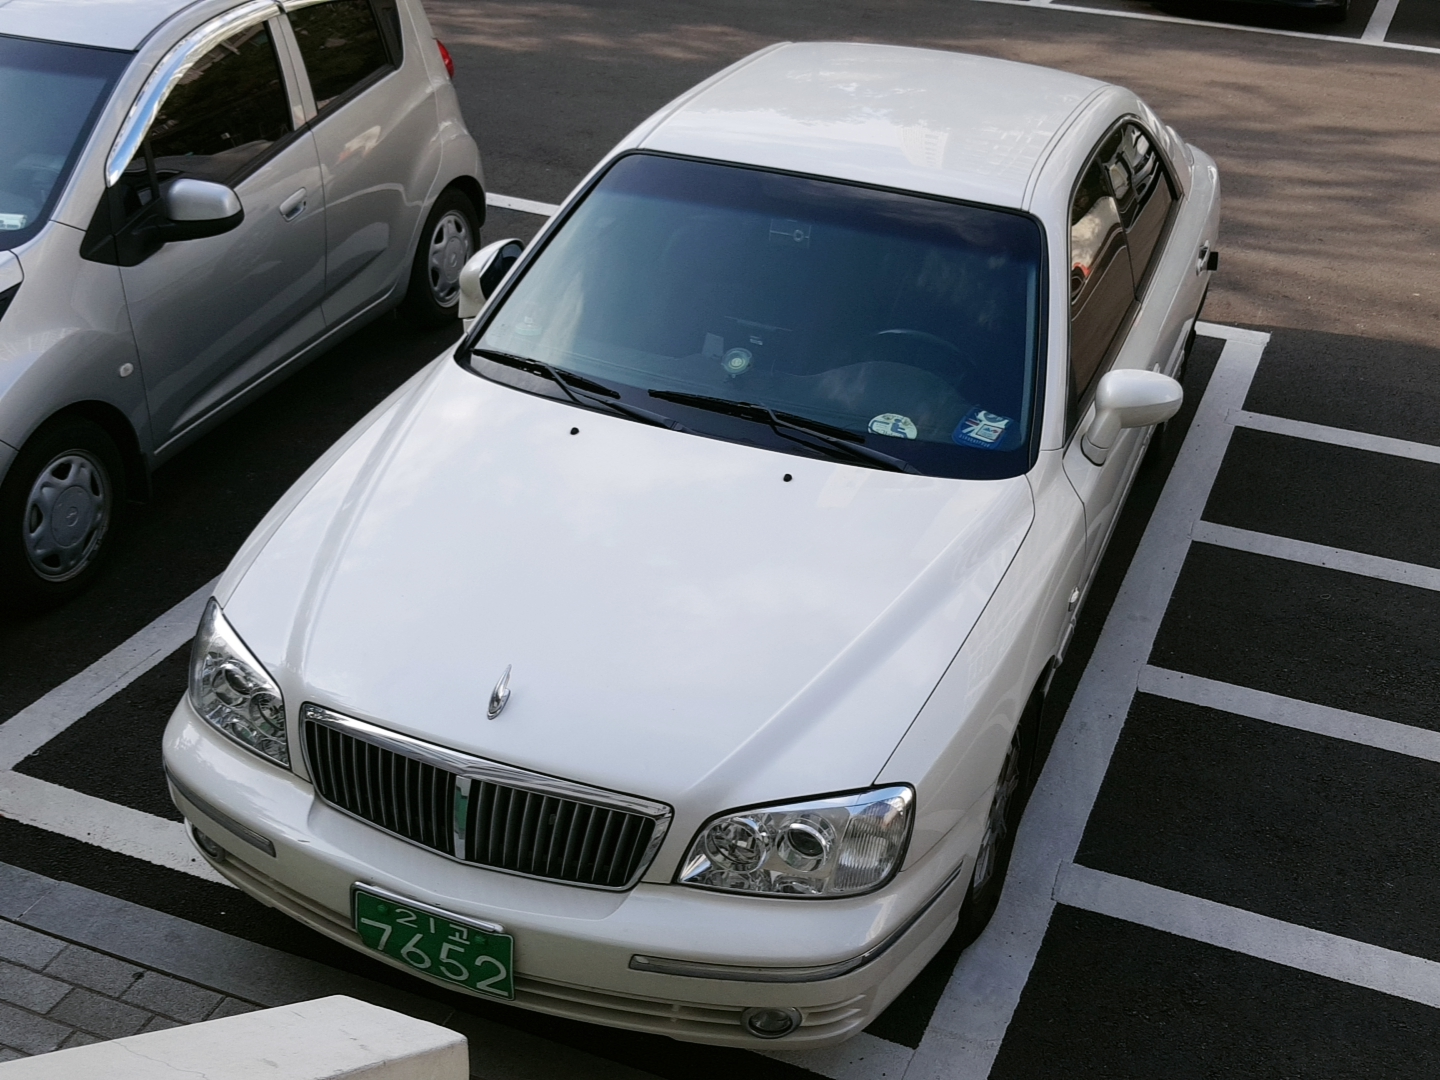disabled_parking: (866, 404, 923, 442)
etc: (962, 403, 1006, 444)
